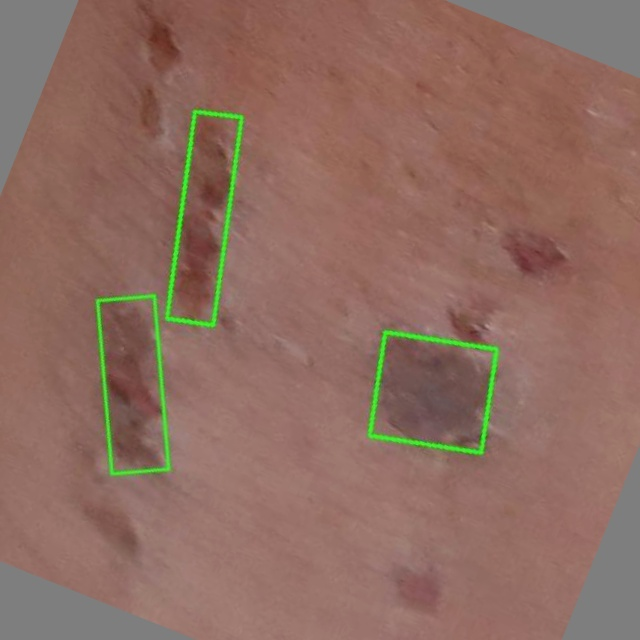Contact Dermatitis: (166, 111, 242, 325), (369, 332, 497, 453), (97, 296, 168, 474)
